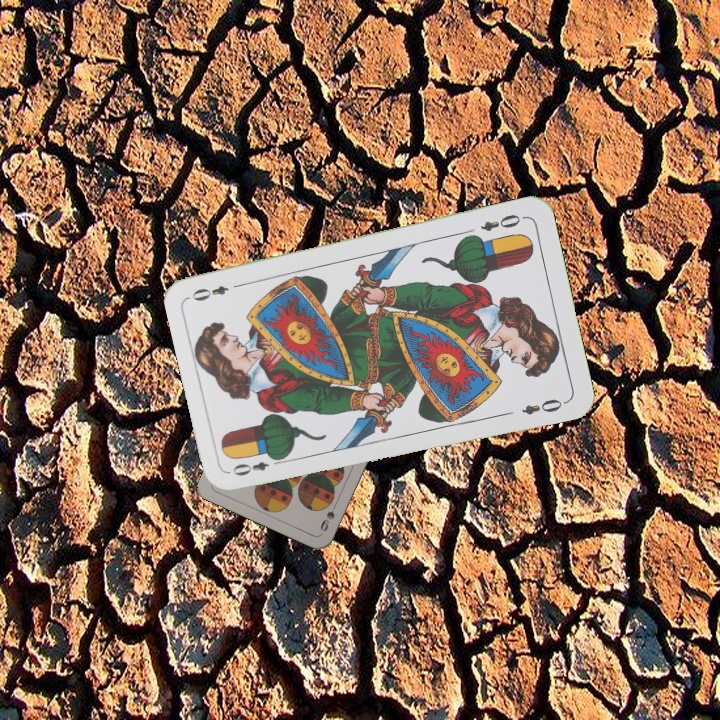EO: (228, 452, 286, 479), (476, 210, 523, 234)
S9: (316, 496, 340, 534)
